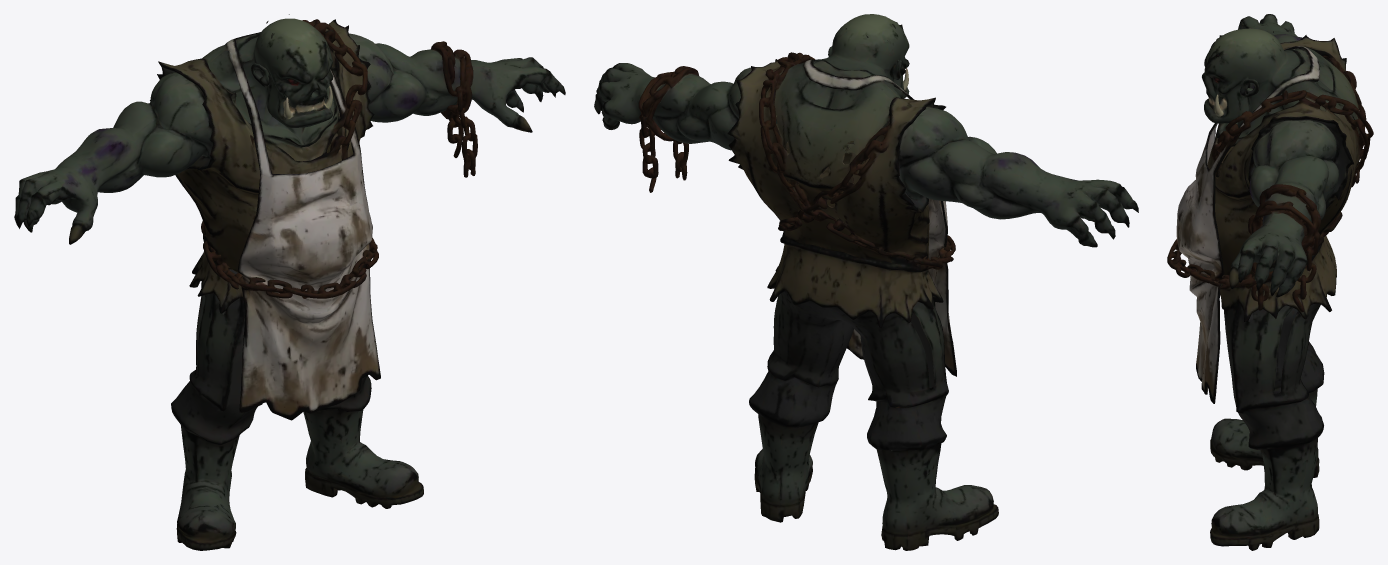
File: kasap.glb
3 views of the same model, side by side, from view 1: azimuth 30°, elevation 25°; view 2: azimuth 150°, elevation 25°; view 3: azimuth 270°, elevation 25° (orthographic). The views are drawn at different scales.
Visible parts, largest first — view 1: world; view 2: world; view 3: world.
Part boxes in pixels (<box>): world: <box>14,14,565,550</box>; world: <box>594,14,1138,550</box>; world: <box>1167,14,1373,550</box>.
Size of the model in its own units: 1 by 0.8827 by 0.351.
Materials: 1 (1 with a texture image).
